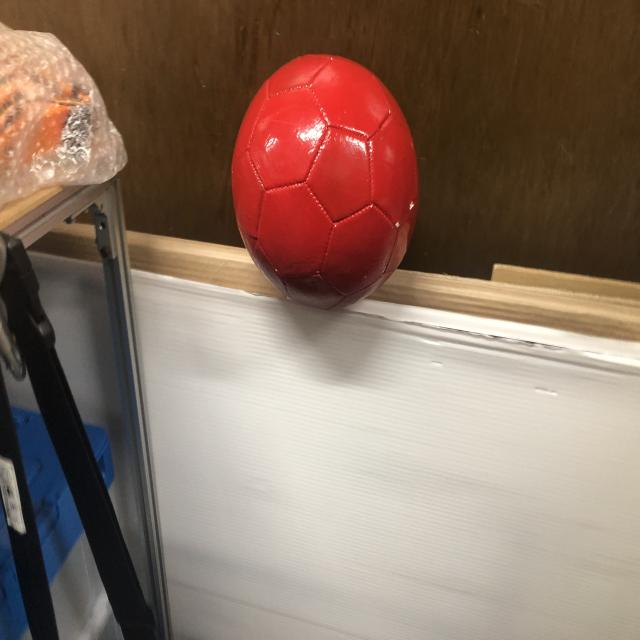red_ball: (232, 53, 418, 317)
